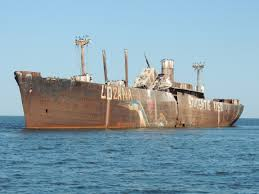rust: (14, 71, 141, 130)
